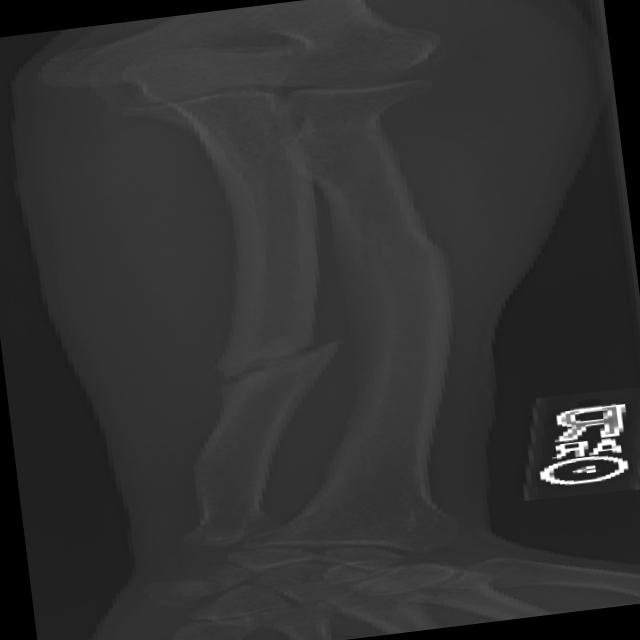forearm fracture: (151, 296, 417, 439)
